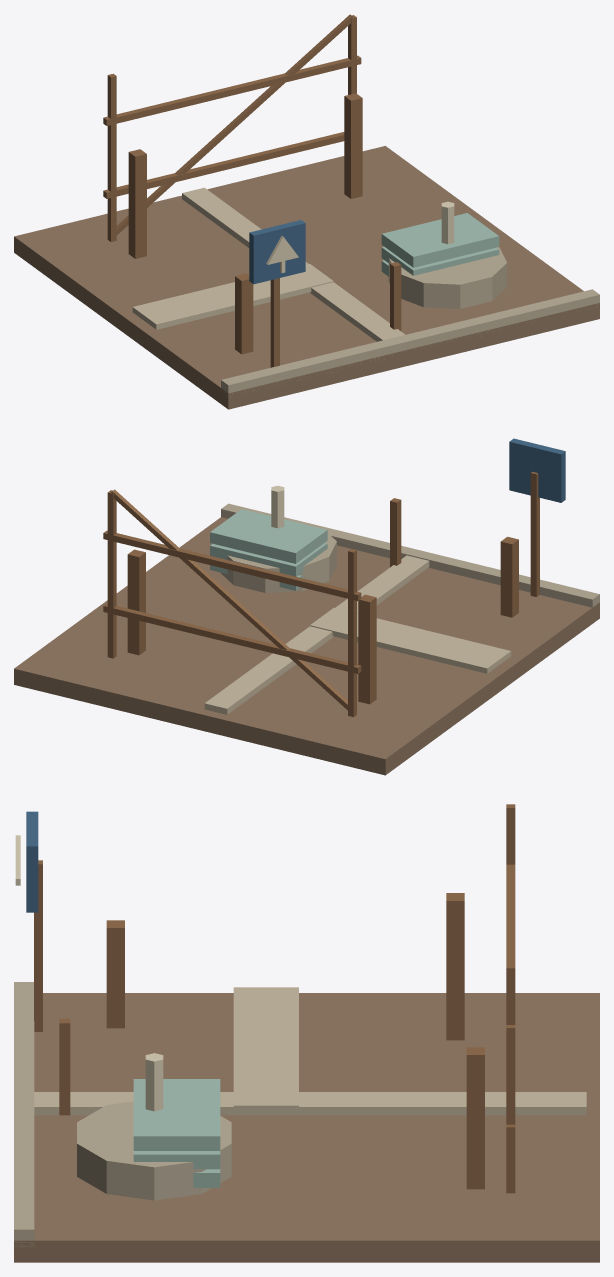
File: park-seabreeze-half-built.glb
The picture shows the model from 3 angles, top to bottom: view 1: azimuth 30°, elevation 25°; view 2: azimuth 150°, elevation 25°; view 3: azimuth 270°, elevation 25°; orthographic projection. The views are drawn at different scales.
Visible parts, largest first — view 1: park; view 2: park; view 3: park.
Part boxes in pixels (x1,y1,x2,y2): park: (14, 14, 599, 409); park: (14, 438, 599, 775); park: (14, 804, 599, 1262).
Size of the model in its own units: 2.88 by 1.38 by 2.88.
